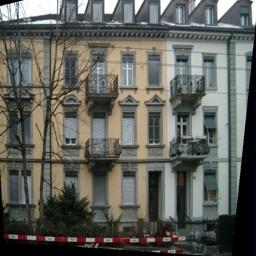building: (0, 0, 230, 221)
